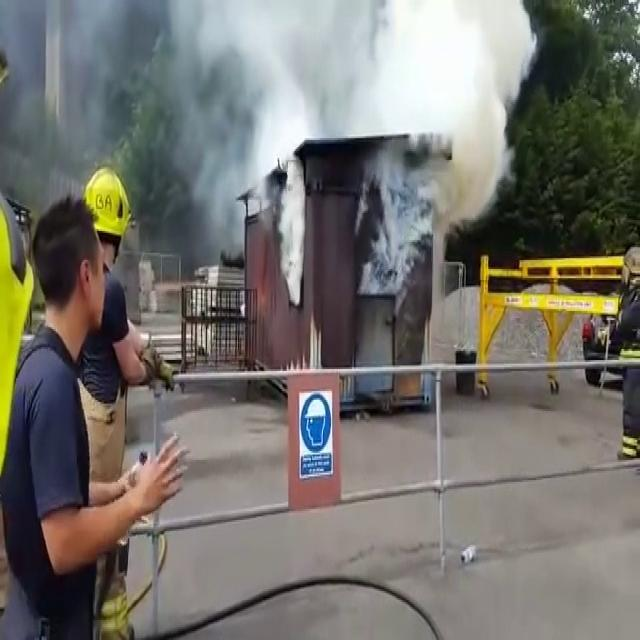Smoke: (223, 0, 529, 118), (424, 123, 514, 244), (268, 164, 310, 300)
